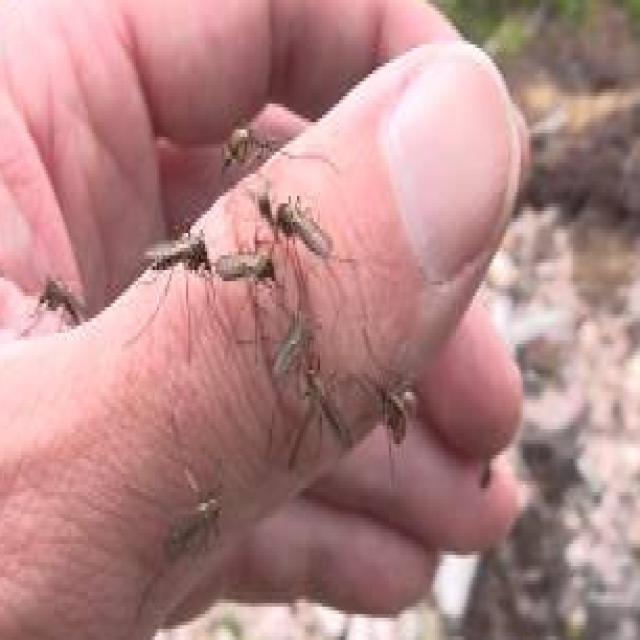Mosquito: (140, 448, 257, 591), (140, 215, 222, 342), (257, 164, 334, 274), (366, 346, 431, 462), (287, 352, 352, 463), (214, 97, 286, 195), (267, 292, 322, 403), (31, 263, 97, 352)
Mosquito Swarm: (12, 108, 493, 548)
